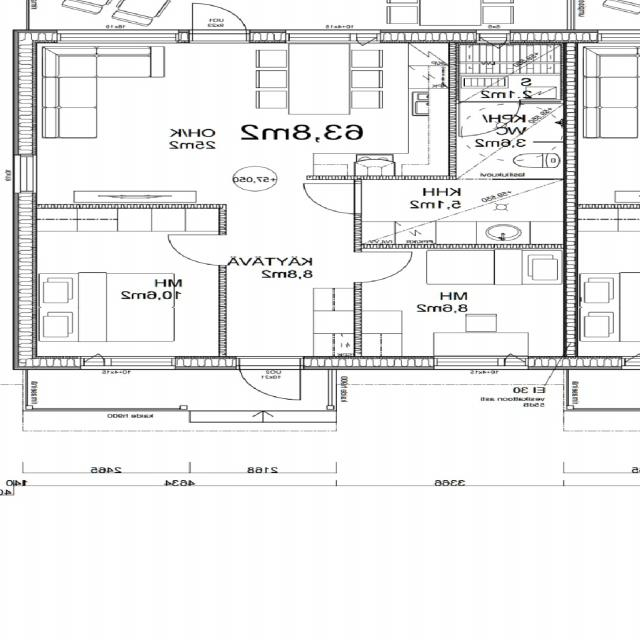door: (240, 356, 302, 404), (191, 0, 247, 43), (461, 99, 521, 137), (300, 183, 362, 214), (355, 252, 416, 282), (166, 234, 226, 264)
